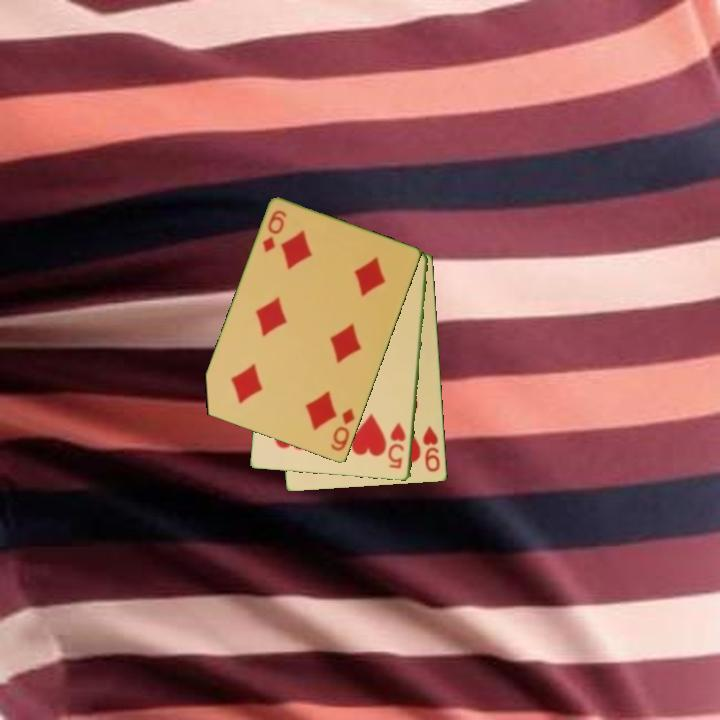5h: (386, 420, 409, 472)
6d: (327, 405, 358, 455), (259, 207, 290, 256)
9h: (420, 423, 443, 475)
